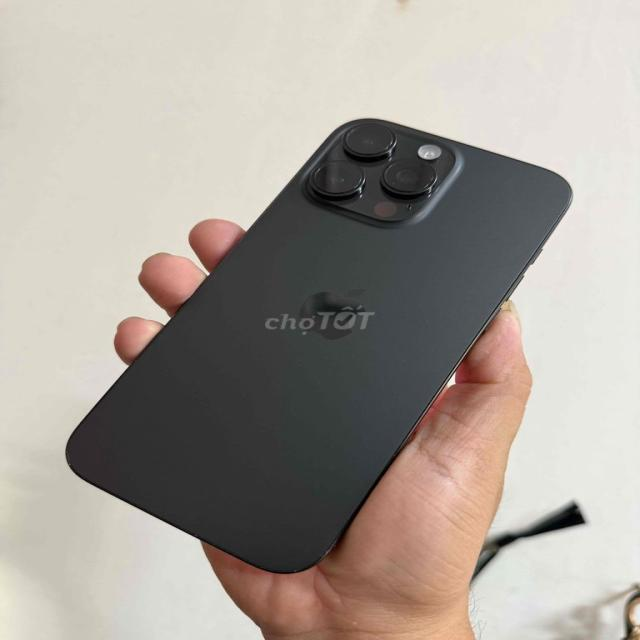gen_16: (67, 119, 571, 572)
